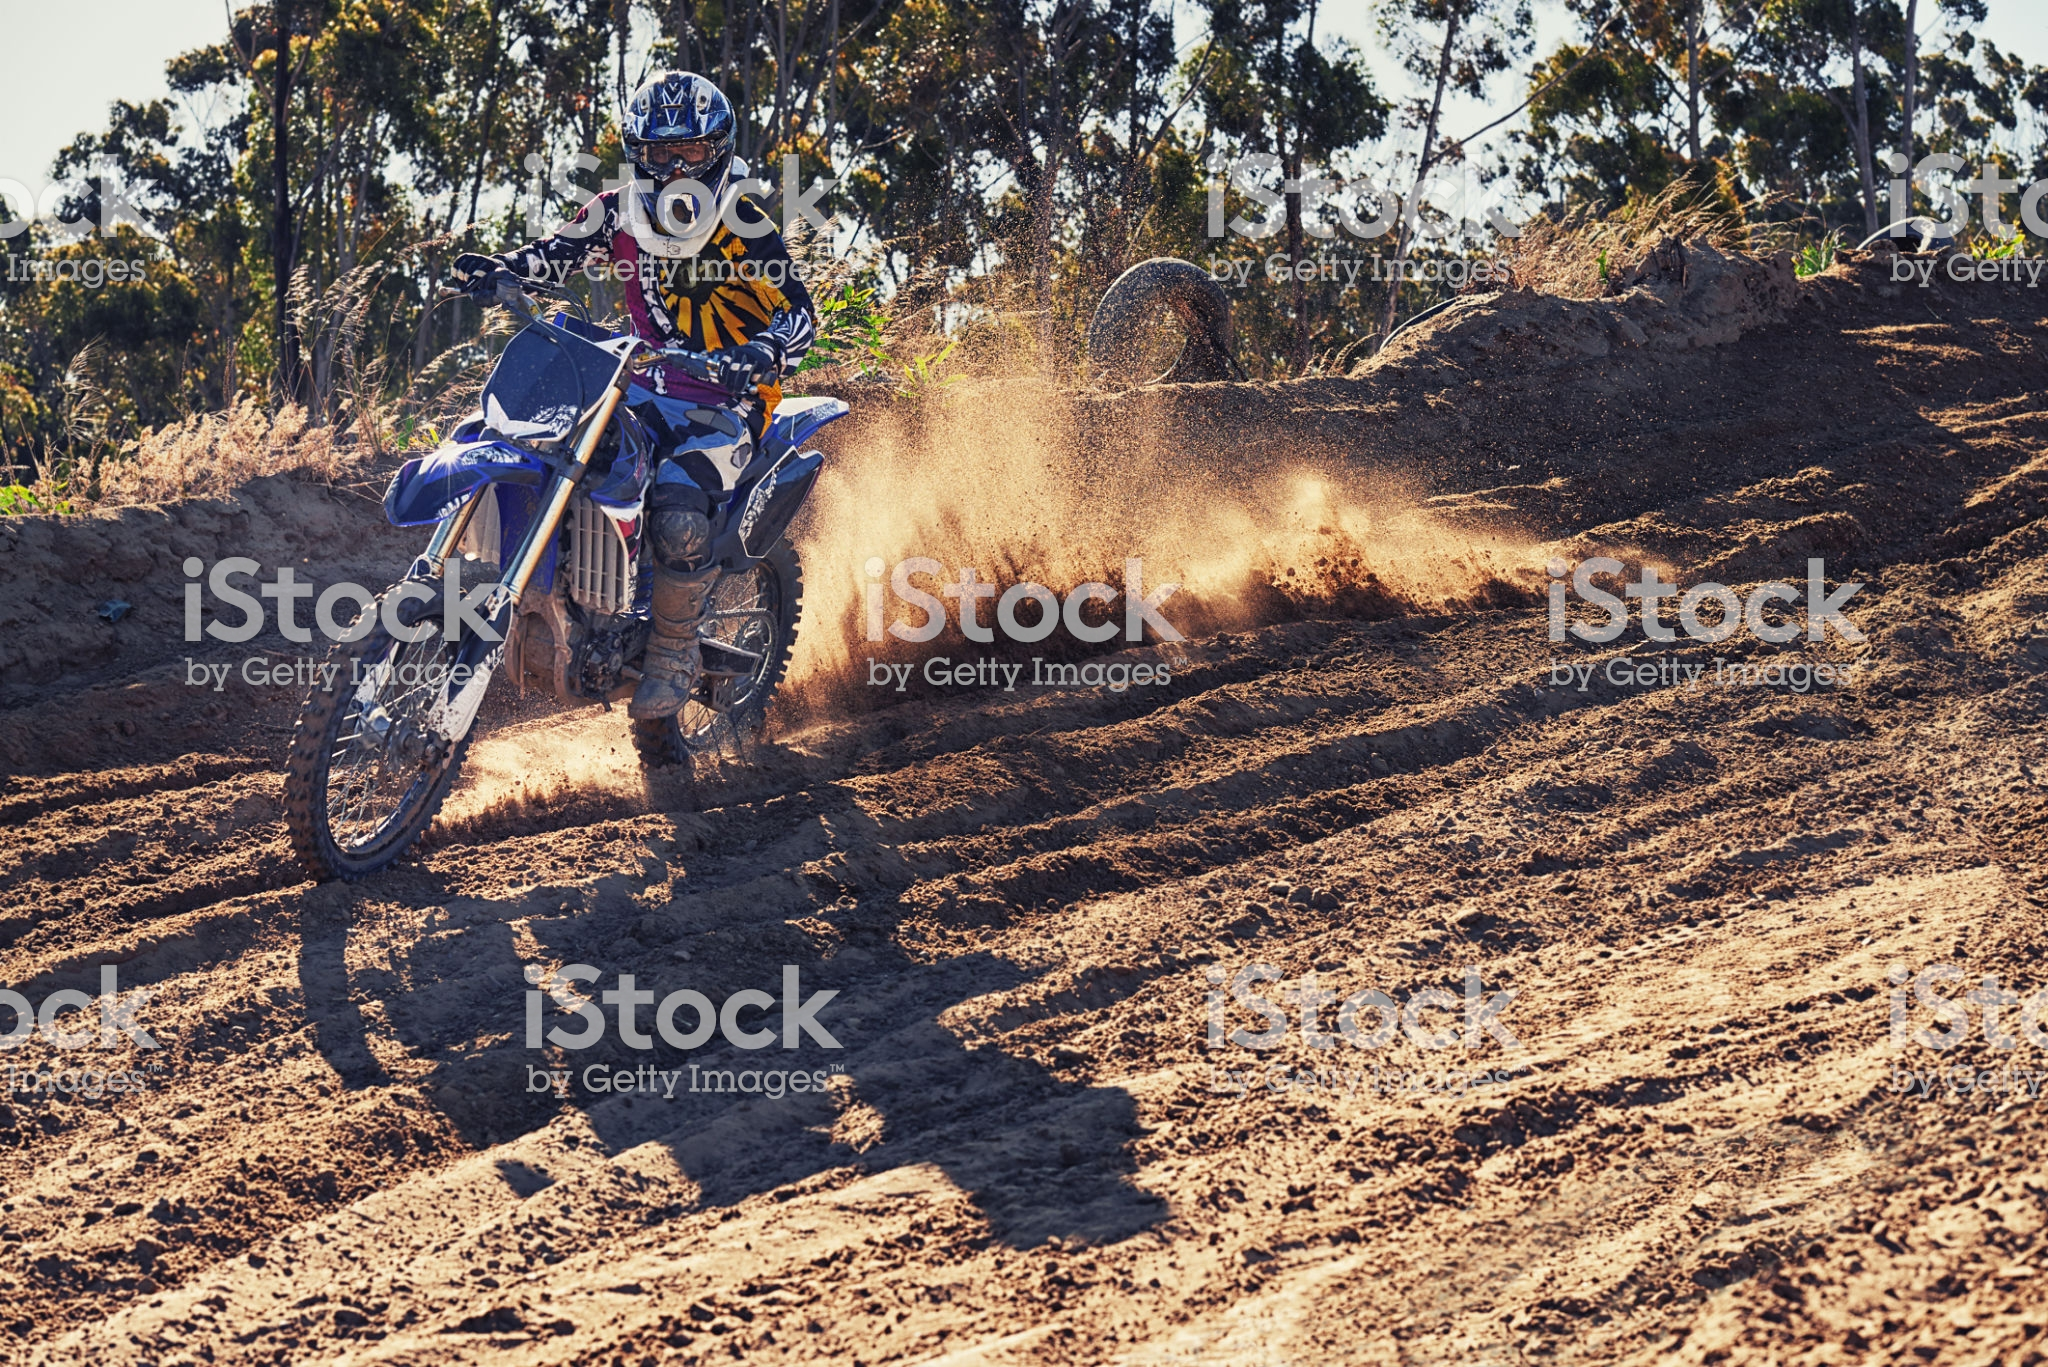helmet: (608, 78, 744, 207)
